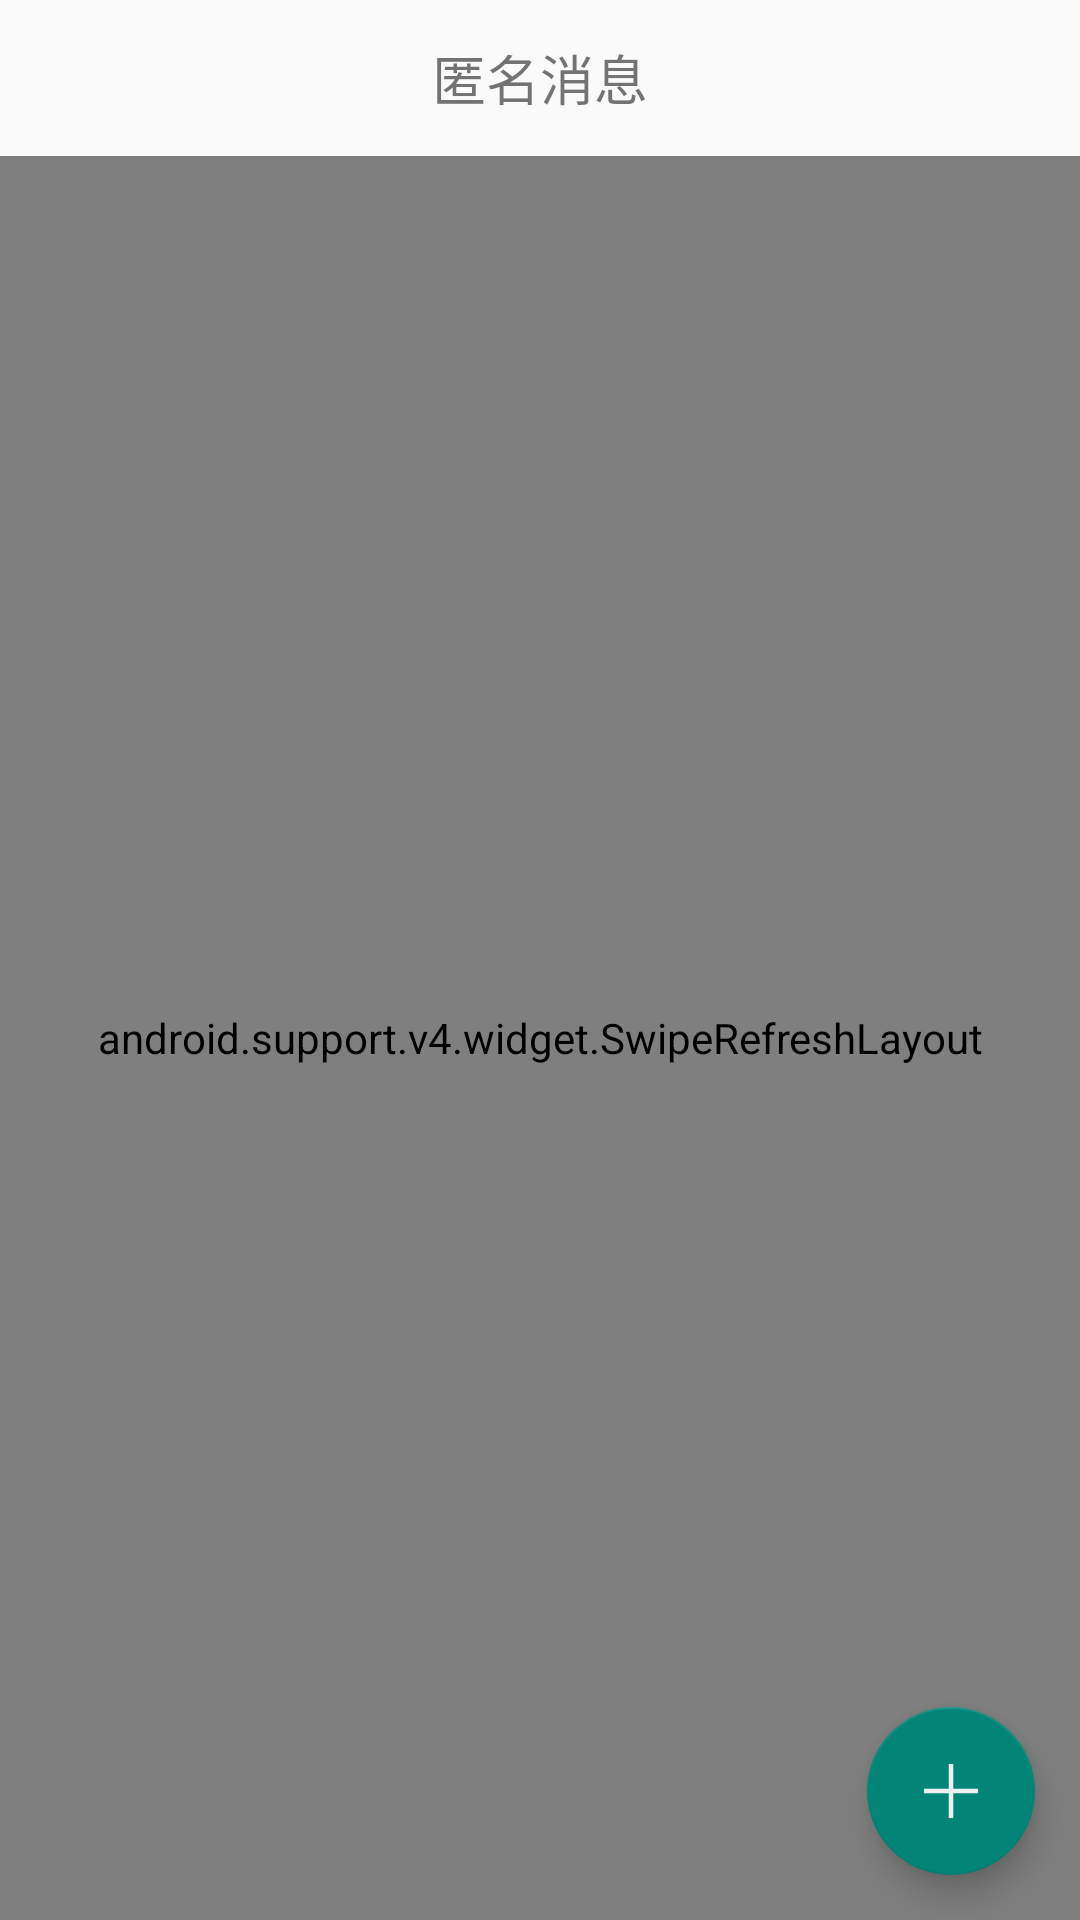

Point at icon controls on the screen. Image size 1080px x 1920px, points as [x,y].
add: [951,1791]
